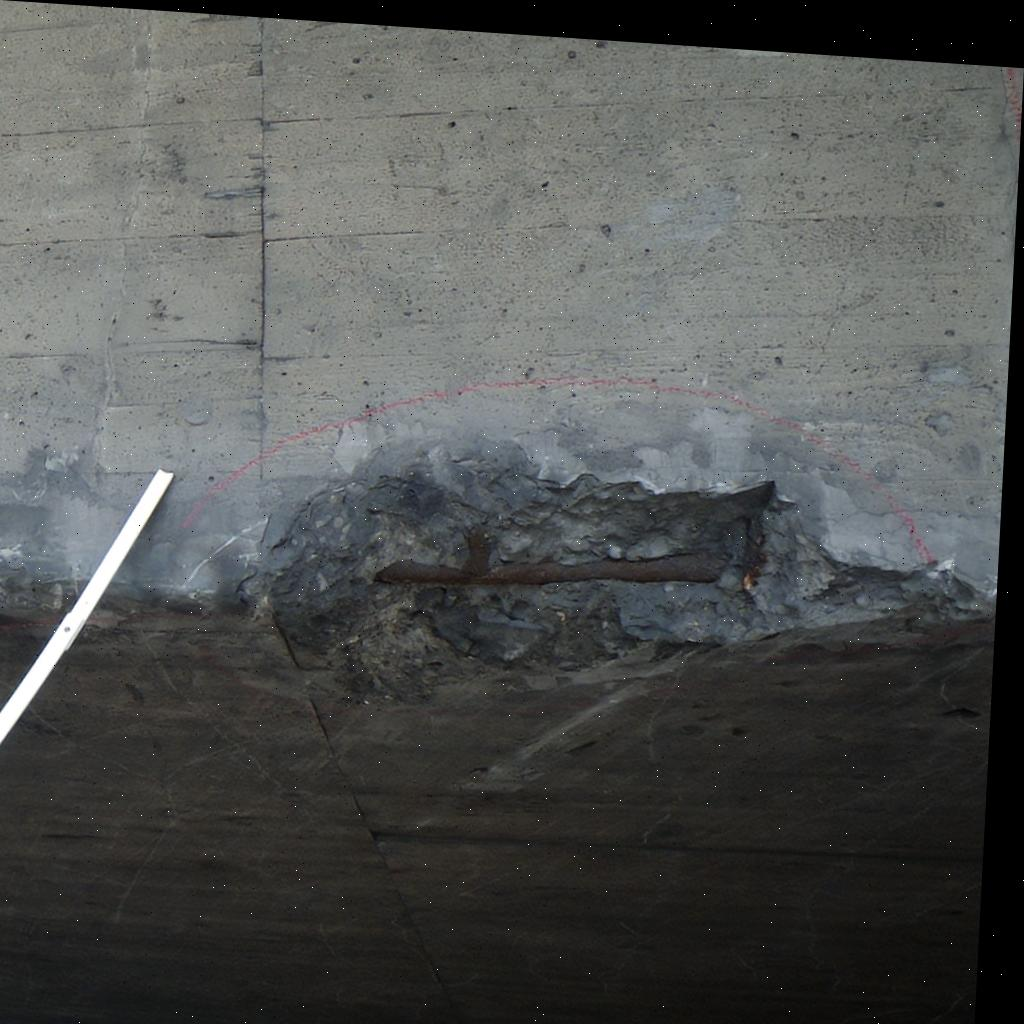exposed_rebar: (375, 537, 721, 586)
spalling: (268, 439, 972, 693)
